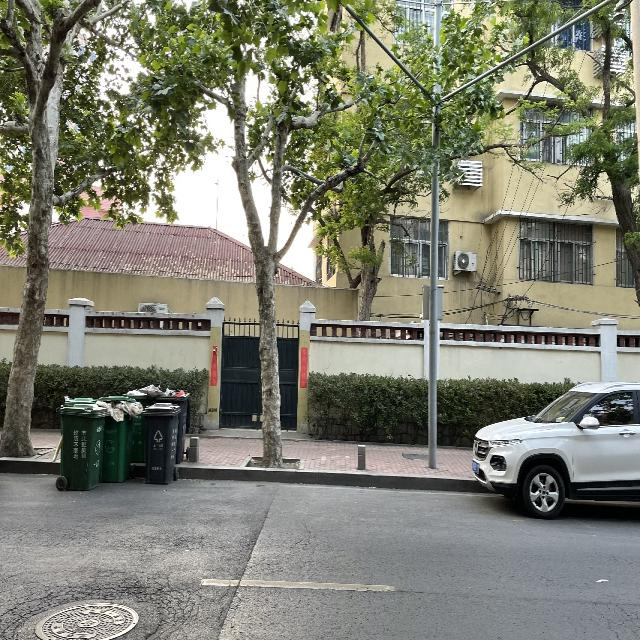garbage_bin: (59, 402, 105, 489), (141, 401, 180, 484)
overflow: (98, 394, 142, 481)
